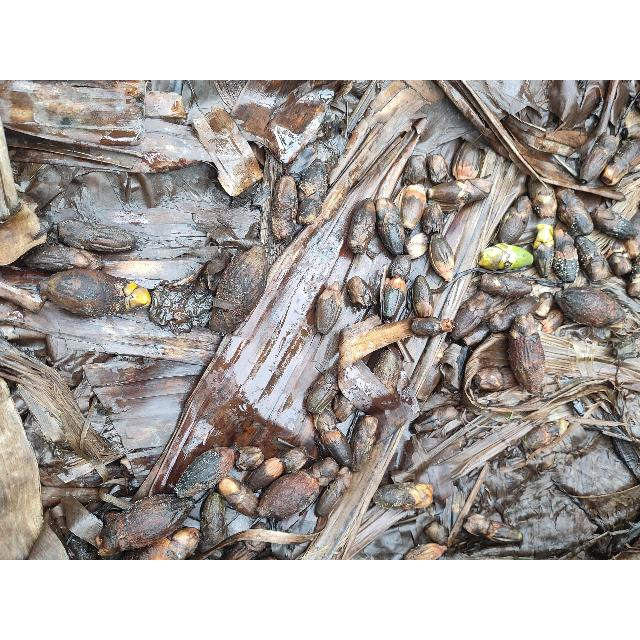damaged: (1, 376, 47, 560), (518, 334, 638, 388), (438, 421, 542, 483), (100, 380, 196, 446), (99, 491, 200, 553), (5, 129, 144, 173), (36, 269, 152, 317), (337, 114, 397, 198), (74, 332, 220, 366), (136, 160, 227, 210), (342, 497, 414, 559), (213, 245, 265, 328), (356, 81, 418, 147), (446, 461, 492, 549), (193, 526, 309, 560), (84, 358, 204, 390), (44, 448, 136, 488), (345, 316, 415, 368), (434, 80, 494, 138), (147, 280, 213, 332), (256, 470, 322, 520), (504, 117, 582, 159), (164, 80, 238, 122), (98, 256, 216, 282), (174, 446, 232, 498), (508, 315, 546, 393), (0, 203, 48, 264), (550, 478, 606, 530), (554, 286, 626, 326), (258, 148, 282, 268), (56, 220, 138, 253), (366, 388, 416, 439), (1, 103, 22, 220), (546, 80, 594, 130), (24, 243, 102, 273), (427, 178, 489, 214), (25, 515, 75, 559), (586, 518, 640, 558), (592, 80, 622, 148), (579, 134, 619, 184), (558, 475, 640, 499), (0, 270, 44, 314), (554, 188, 594, 236), (464, 512, 524, 544), (574, 236, 612, 284), (317, 466, 353, 516), (608, 430, 640, 486), (374, 198, 404, 256), (498, 196, 534, 244), (476, 122, 516, 164), (218, 476, 258, 518), (272, 176, 298, 240), (590, 204, 638, 238), (378, 481, 432, 511), (41, 484, 108, 508), (479, 243, 535, 271), (349, 416, 377, 470), (348, 197, 374, 255), (522, 421, 570, 452), (304, 368, 336, 414), (144, 90, 190, 122), (398, 184, 426, 236), (552, 230, 580, 282), (246, 456, 284, 492), (95, 514, 126, 558), (318, 429, 352, 469), (452, 140, 484, 182), (478, 274, 534, 298), (204, 250, 236, 292), (527, 175, 557, 219), (315, 282, 341, 332), (33, 208, 76, 238), (415, 353, 443, 399), (430, 232, 454, 284), (416, 406, 459, 434), (299, 157, 327, 200), (473, 366, 519, 392), (380, 276, 406, 322), (373, 349, 399, 391), (276, 444, 310, 474), (297, 189, 323, 227), (412, 276, 434, 320), (347, 275, 375, 309), (66, 533, 102, 559), (518, 106, 554, 130), (460, 321, 490, 349), (308, 457, 338, 485), (404, 154, 428, 188), (422, 203, 444, 239), (486, 308, 516, 334), (235, 446, 265, 472), (314, 402, 338, 434), (426, 154, 449, 186), (613, 334, 639, 362), (551, 154, 579, 180), (508, 295, 538, 319), (10, 190, 40, 214), (333, 391, 355, 422), (91, 500, 122, 522), (510, 313, 538, 337), (606, 236, 634, 260), (376, 262, 388, 318), (389, 254, 411, 284), (412, 317, 444, 337), (540, 308, 564, 334), (607, 252, 633, 276), (406, 232, 428, 260), (615, 136, 639, 160), (456, 346, 470, 386), (534, 292, 554, 320), (366, 234, 386, 262), (622, 108, 640, 138), (250, 182, 272, 206), (534, 224, 554, 250), (626, 266, 640, 298), (348, 80, 372, 98), (450, 489, 464, 519)
